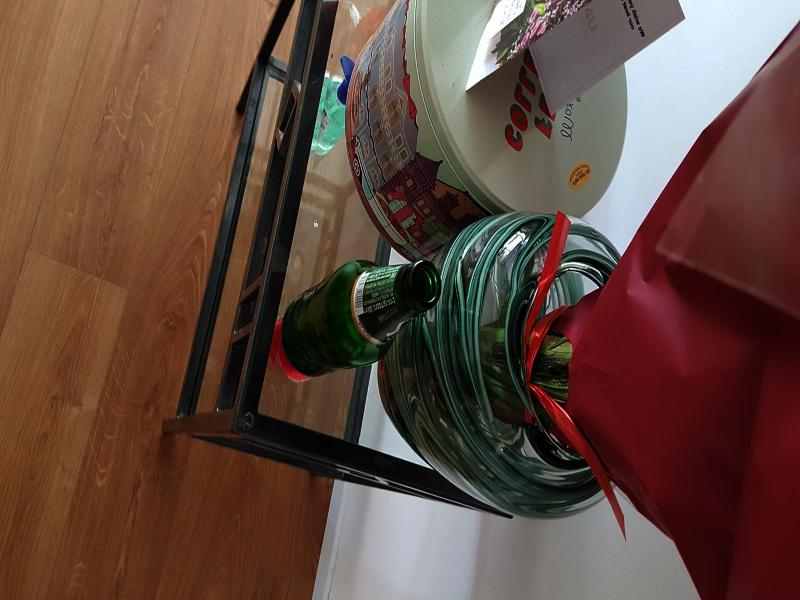Beer: (281, 259, 440, 377)
